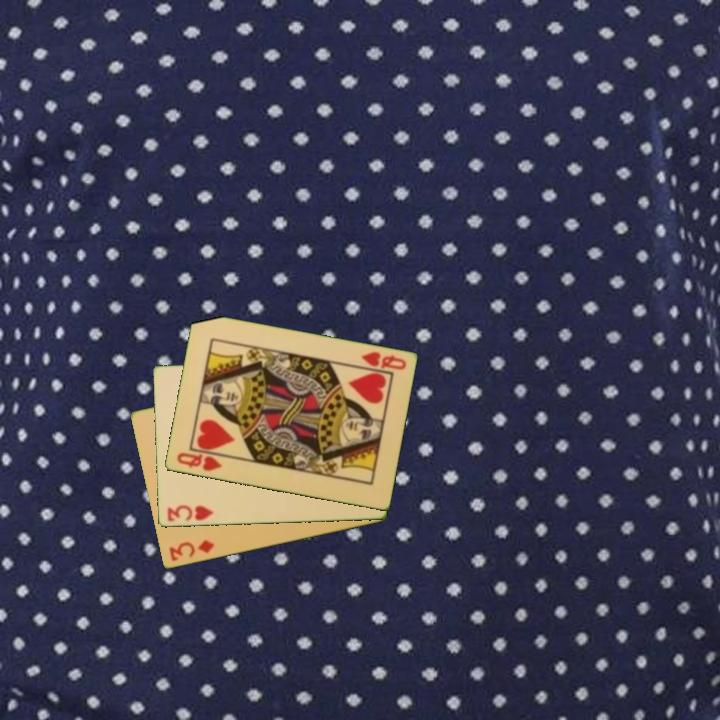3d: (165, 536, 217, 564)
3h: (164, 502, 216, 525)
Qh: (173, 449, 225, 474), (357, 348, 409, 373)
